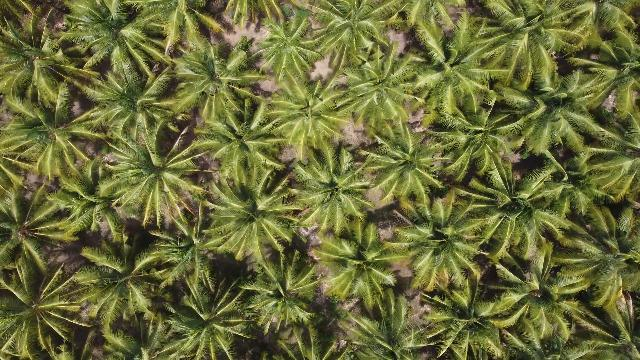trees: (486, 241, 632, 358), (498, 69, 624, 175), (101, 120, 215, 230), (465, 4, 593, 97), (4, 244, 104, 360), (63, 239, 174, 343), (455, 158, 562, 264), (395, 198, 497, 300), (191, 89, 291, 189), (202, 171, 305, 268), (321, 42, 417, 144), (424, 94, 525, 190), (155, 273, 262, 360), (311, 219, 406, 315), (241, 252, 331, 350), (1, 11, 87, 113), (289, 145, 379, 242), (168, 37, 265, 125), (82, 60, 179, 147), (421, 273, 517, 360), (63, 3, 167, 80), (359, 125, 446, 215), (265, 75, 353, 162), (34, 157, 122, 242), (422, 7, 506, 79), (308, 4, 397, 69), (2, 182, 63, 264), (252, 14, 324, 83), (223, 2, 289, 31)
